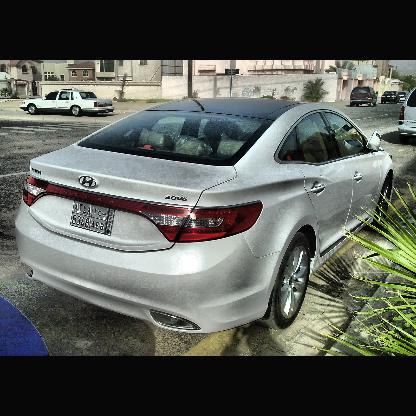Hyundai Azera Sedan 2012: (17, 91, 395, 347)
